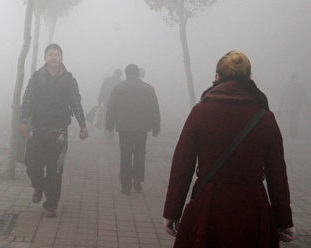person: (162, 48, 298, 248), (17, 42, 89, 217), (104, 63, 162, 195), (99, 65, 125, 106)
